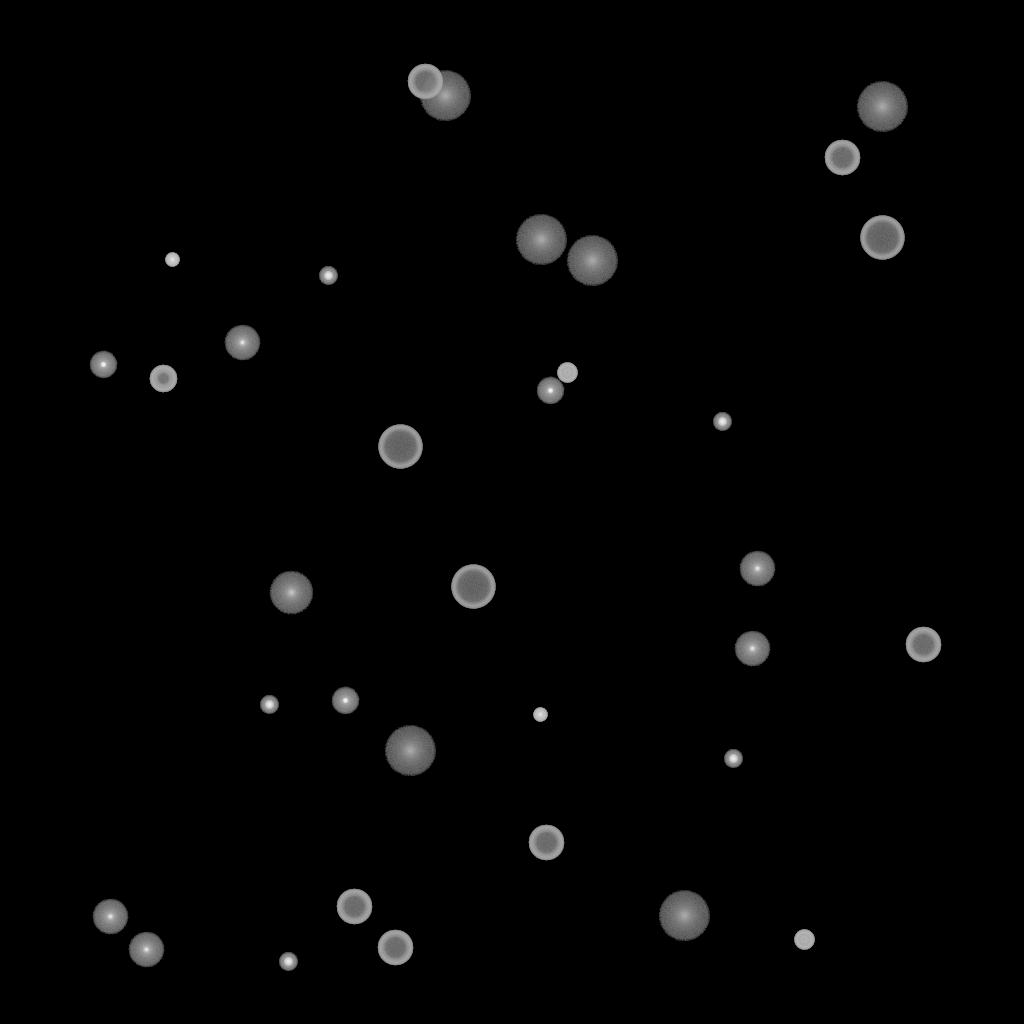depth:-10: (536, 377, 564, 405), (331, 687, 359, 715), (89, 351, 117, 379)
depth:-20: (713, 413, 731, 431), (319, 267, 337, 285), (279, 953, 297, 971), (260, 696, 278, 714), (724, 750, 742, 768)
depth:-30: (533, 708, 547, 722), (165, 253, 179, 267)
depth:-40: (794, 930, 814, 950), (557, 363, 577, 383)
depth:-50: (149, 365, 177, 393)
depth:-60: (336, 889, 372, 925), (407, 64, 443, 100), (824, 140, 860, 176), (528, 825, 564, 861), (377, 930, 413, 966), (905, 627, 941, 663)
depth:-70: (451, 565, 495, 609), (860, 216, 904, 260), (378, 425, 422, 469)
depth:0: (734, 631, 770, 667), (128, 932, 164, 968), (92, 899, 128, 935), (739, 551, 775, 587), (224, 325, 260, 361)
depth:10: (269, 571, 313, 615)
depth:20: (856, 82, 908, 132), (515, 215, 567, 265), (658, 891, 710, 941), (384, 726, 436, 776), (419, 71, 471, 121), (566, 236, 618, 286)
